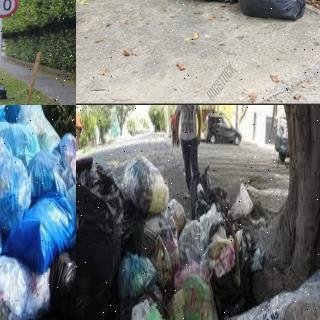Garbage: (76, 172, 119, 315), (0, 194, 72, 272), (223, 270, 320, 320), (122, 154, 166, 214), (0, 156, 28, 228), (26, 151, 65, 198), (118, 254, 158, 299), (51, 252, 76, 320), (0, 119, 38, 160), (3, 105, 45, 136), (0, 81, 9, 100)
